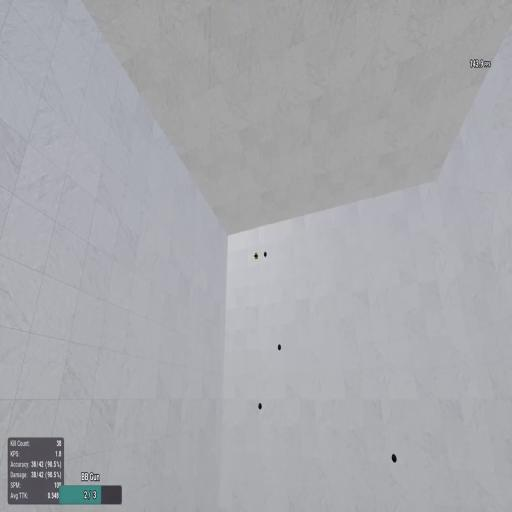Target: (391, 452, 397, 464), (254, 252, 258, 260), (258, 402, 262, 409), (278, 343, 281, 351), (255, 253, 258, 260), (264, 251, 266, 257)
